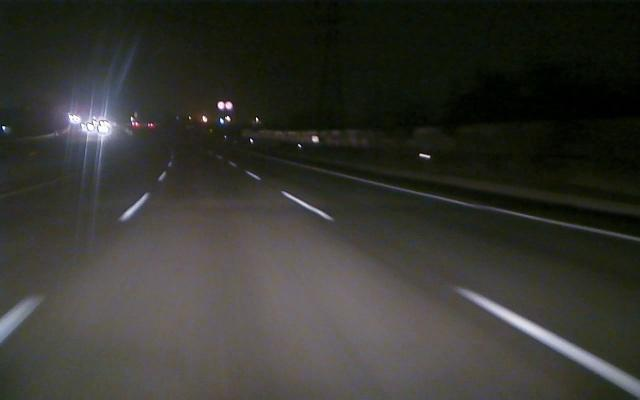lane: (279, 189, 637, 396), (0, 173, 167, 344), (338, 171, 640, 242)
